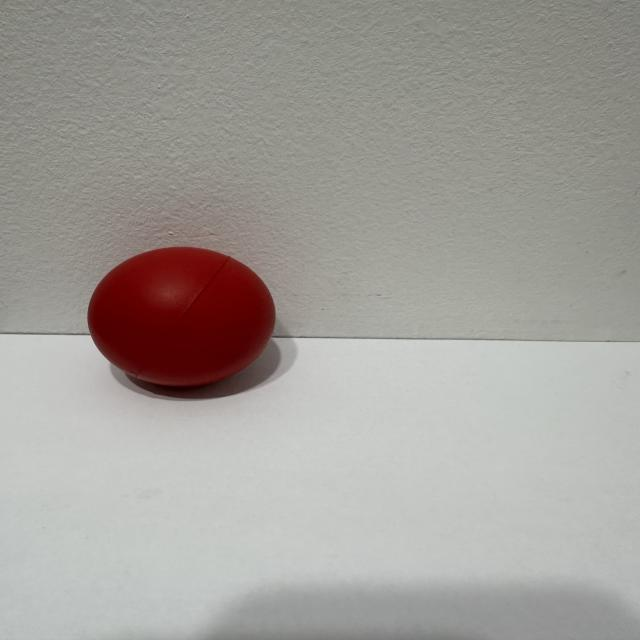red_ball: (90, 239, 285, 405)
